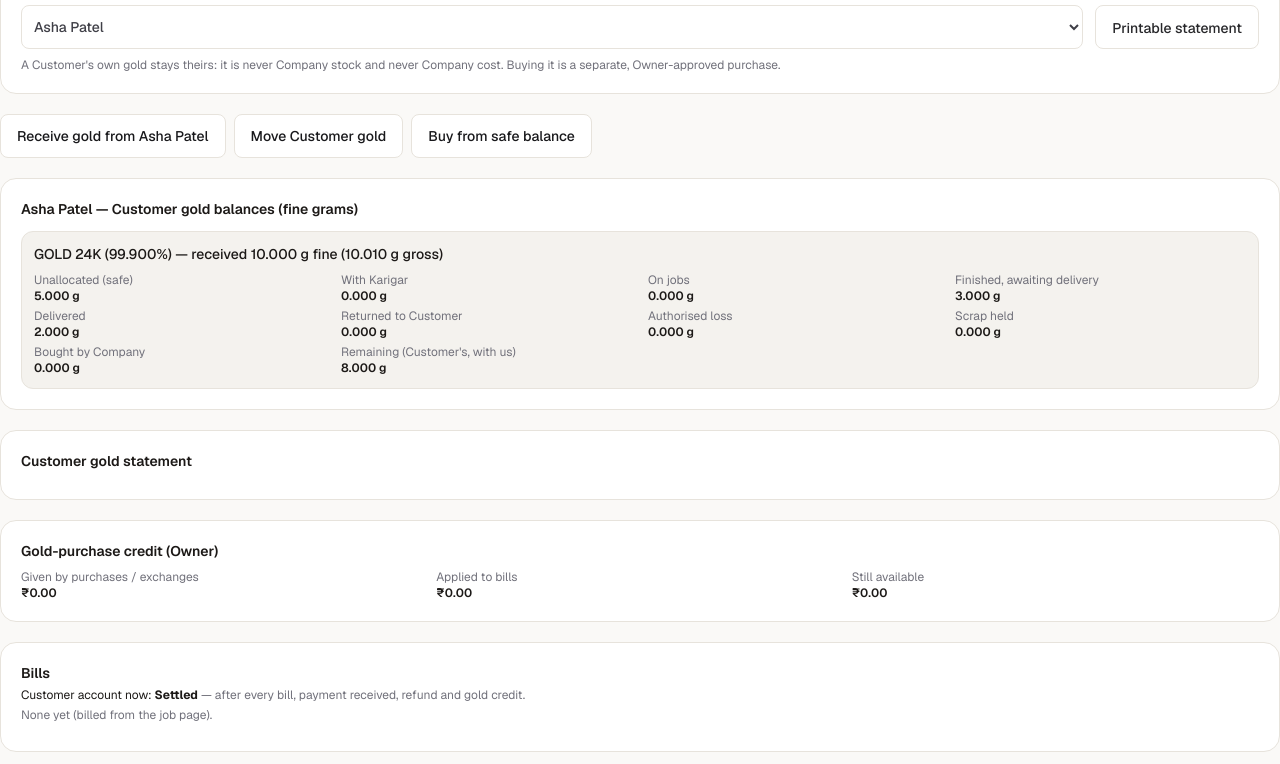
Scenario: Customer gold intake photo is never left orphaned › closing an intake after a photo was uploaded discards that photo
This screenshot has width=1280, height=764.
Step 1. Click the button "Receive gold from Asha Patel" → (113, 136), box [0,114,226,158]
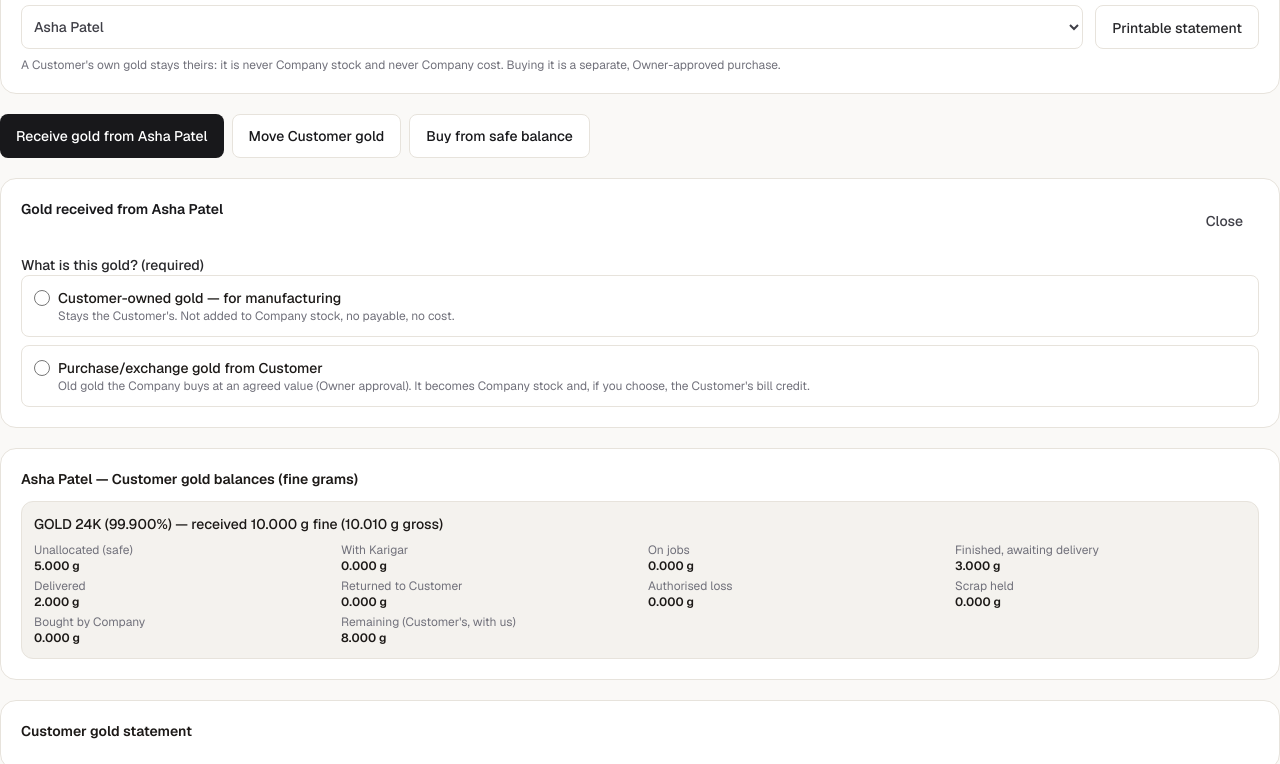
Step 2. Click the radio button labelled "Customer-owned gold — for manufacturing" → (42, 298), box [34,290,50,306]
(page scrolled)
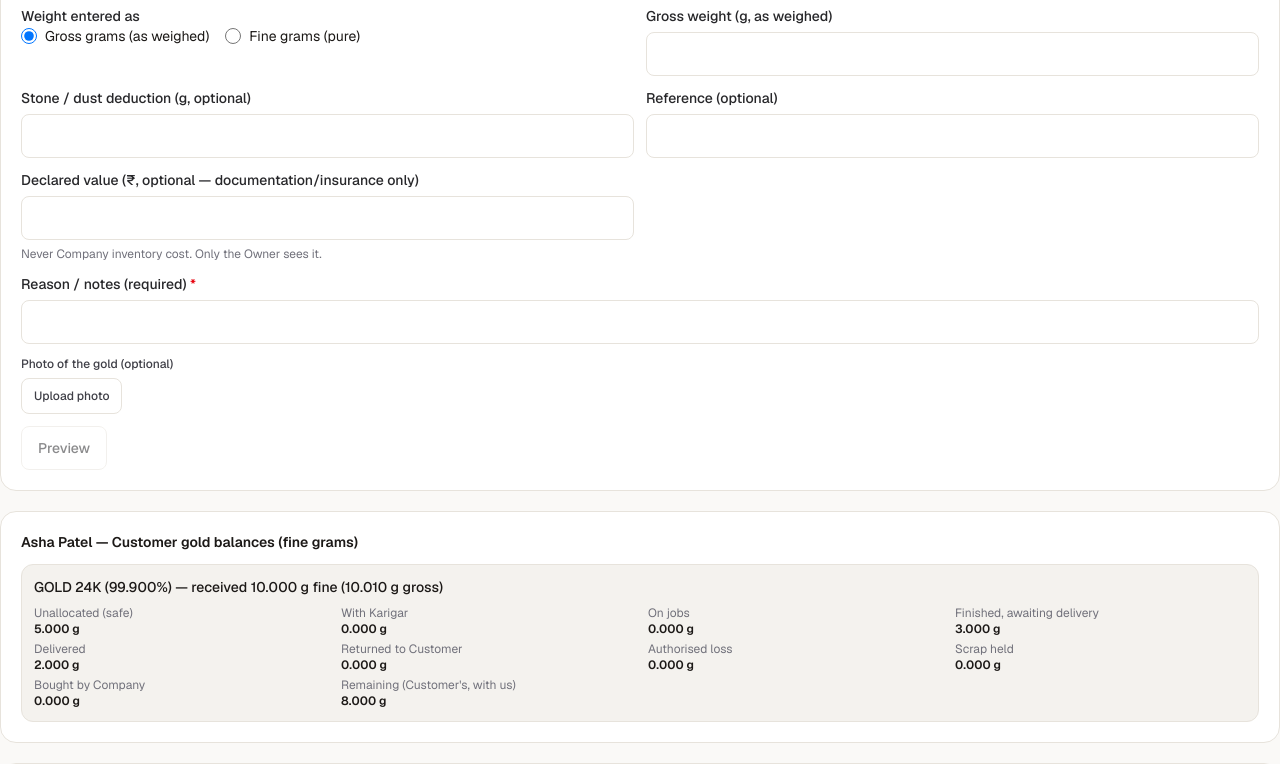
Expected: the text "Photo of the gold (optional)" is shown, [21,356,173,372]
